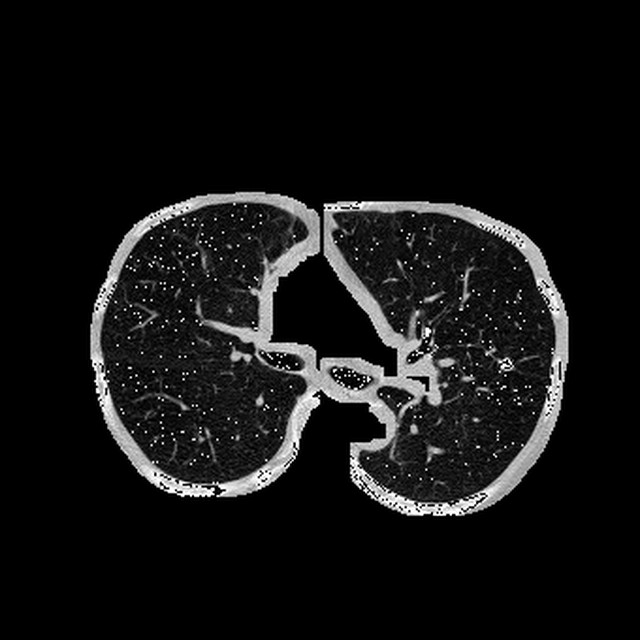PN: (499, 356, 514, 371)
